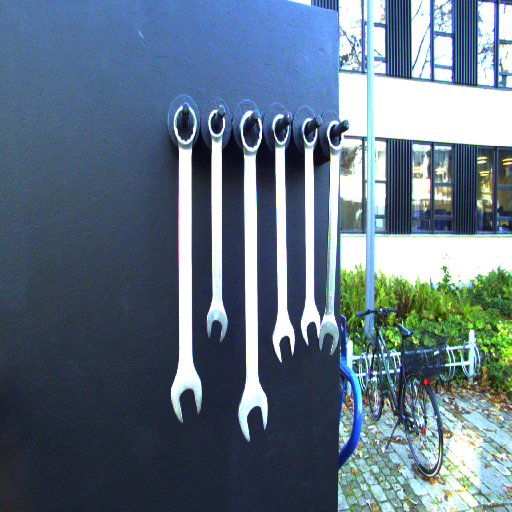bottom: (234, 394, 274, 444), (167, 381, 208, 424), (270, 326, 299, 365), (202, 311, 229, 345), (295, 313, 320, 349), (319, 317, 338, 354)
top: (237, 108, 265, 155), (171, 103, 199, 149), (299, 114, 321, 150), (324, 119, 346, 155), (270, 113, 292, 148), (207, 106, 228, 141)
